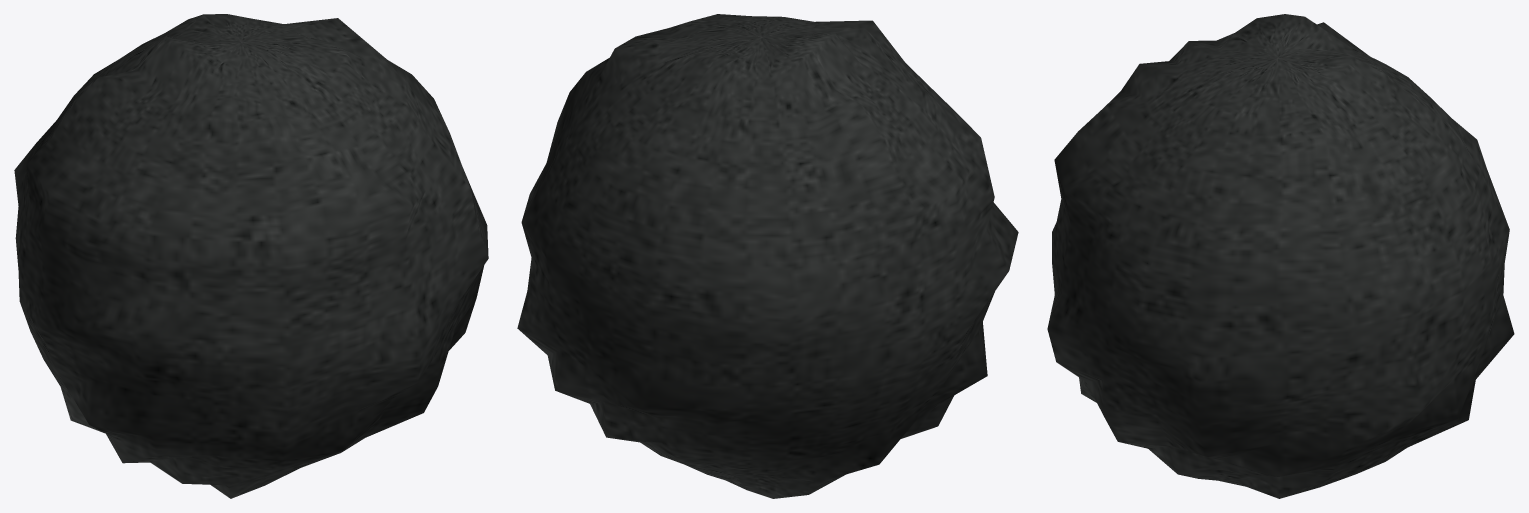
The model's file is Bomb.fbx.
3 renders of one model, left to right at view 1: azimuth 30°, elevation 25°; view 2: azimuth 150°, elevation 25°; view 3: azimuth 270°, elevation 25°, orthographic. The views are drawn at different scales.
Visible parts, largest first — view 1: pSphere1; view 2: pSphere1; view 3: pSphere1.
Boxes of the visible parts, x1,y1,x2,y2 form: pSphere1: (14,14,488,498); pSphere1: (517,14,1018,498); pSphere1: (1047,14,1514,498).
Bounding box in the file's own units: 104 × 106 × 103.
Materials: 1 (1 with a texture image).
